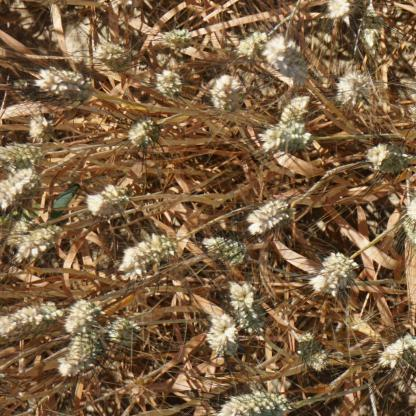whd: (307, 249, 361, 295), (212, 385, 294, 415), (260, 42, 316, 80), (56, 328, 102, 374), (84, 180, 138, 216), (118, 228, 158, 276), (0, 172, 47, 212), (0, 300, 55, 334), (14, 226, 72, 258), (244, 195, 293, 232), (231, 277, 267, 327), (35, 67, 98, 94), (333, 72, 380, 108), (53, 299, 104, 330), (257, 120, 306, 152), (294, 323, 328, 366), (203, 308, 238, 348), (358, 2, 387, 49), (378, 327, 416, 362), (204, 233, 249, 262), (154, 66, 188, 102), (101, 315, 138, 348), (149, 231, 181, 265), (212, 73, 242, 109), (281, 91, 313, 124), (363, 146, 402, 173), (91, 41, 137, 62), (21, 117, 63, 139), (0, 143, 50, 161), (162, 24, 196, 50), (231, 28, 260, 57), (132, 122, 160, 151), (402, 183, 416, 232), (327, 0, 351, 17), (403, 103, 416, 125)
